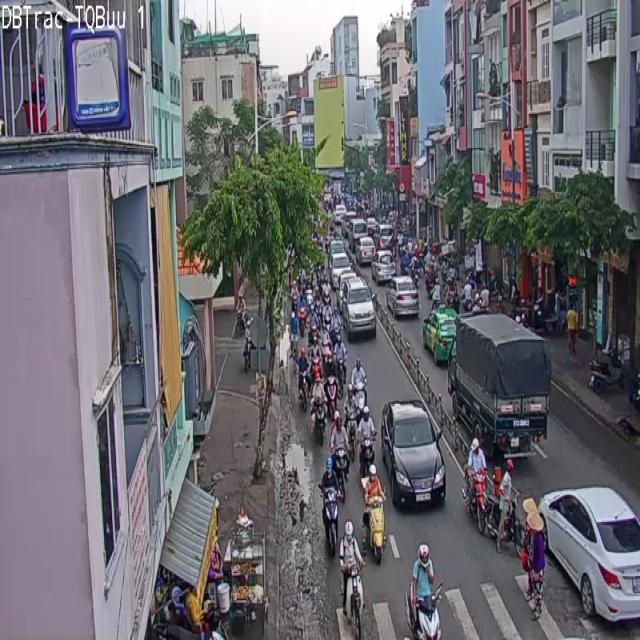car: (406, 545, 441, 639), (523, 498, 545, 617), (342, 522, 363, 639), (463, 439, 488, 532), (362, 464, 385, 562), (330, 411, 348, 499), (322, 484, 338, 556), (358, 405, 374, 474)
traffic-light: (539, 486, 639, 622), (382, 400, 446, 503), (341, 279, 376, 340)
